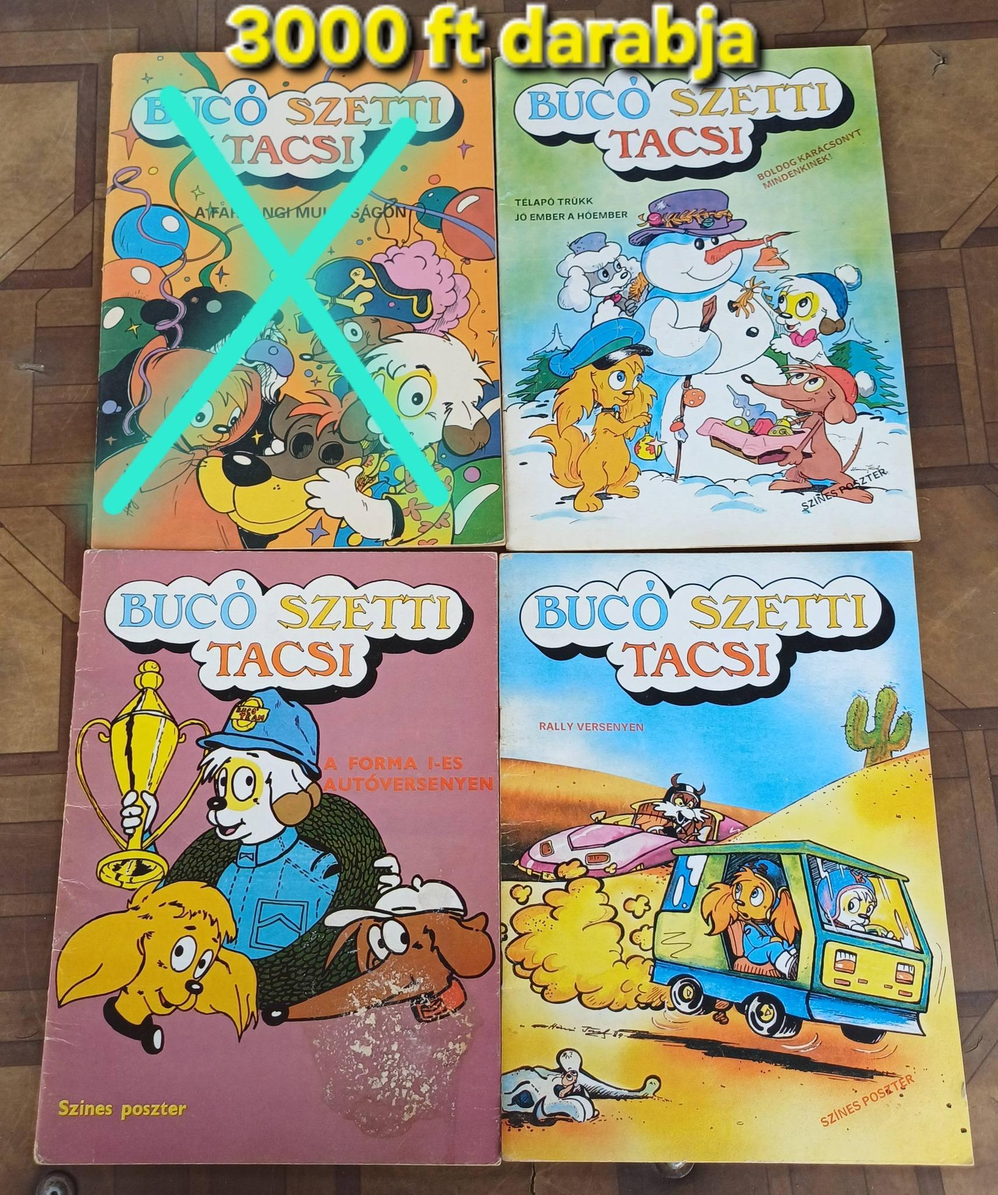comic: (499, 551, 971, 1167), (37, 551, 499, 1164), (484, 44, 917, 560), (101, 84, 496, 561)
